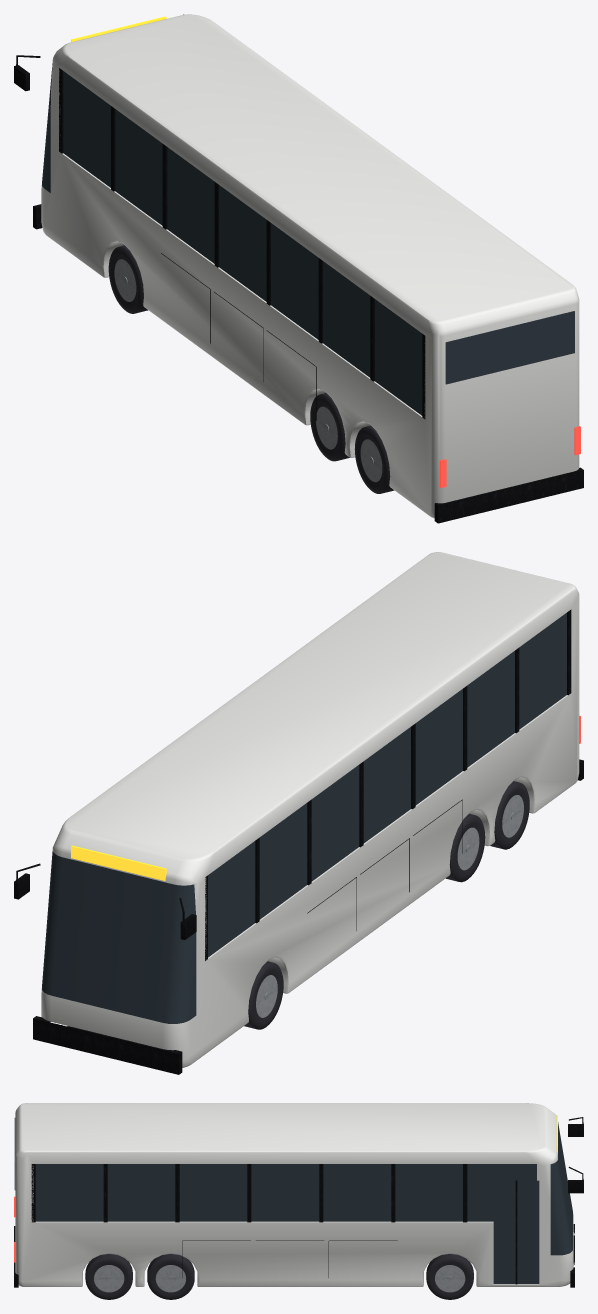
File: coach_white.gltf
3 views of the same model, one above another, from view 1: azimuth 30°, elevation 25°; view 2: azimuth 150°, elevation 25°; view 3: azimuth 270°, elevation 25° (orthographic). The views are drawn at different scales.
Parts seen in each view (by area): view 1: coach_white; view 2: coach_white; view 3: coach_white.
Boxes of the visible parts, box(x1,y1,x2,y2) form: coach_white: box(14, 14, 583, 523); coach_white: box(14, 552, 583, 1074); coach_white: box(14, 1103, 583, 1299).
Size of the model in its own units: 2.99 by 3.6 by 12.46.
Materials: 10 (4 with a texture image).
